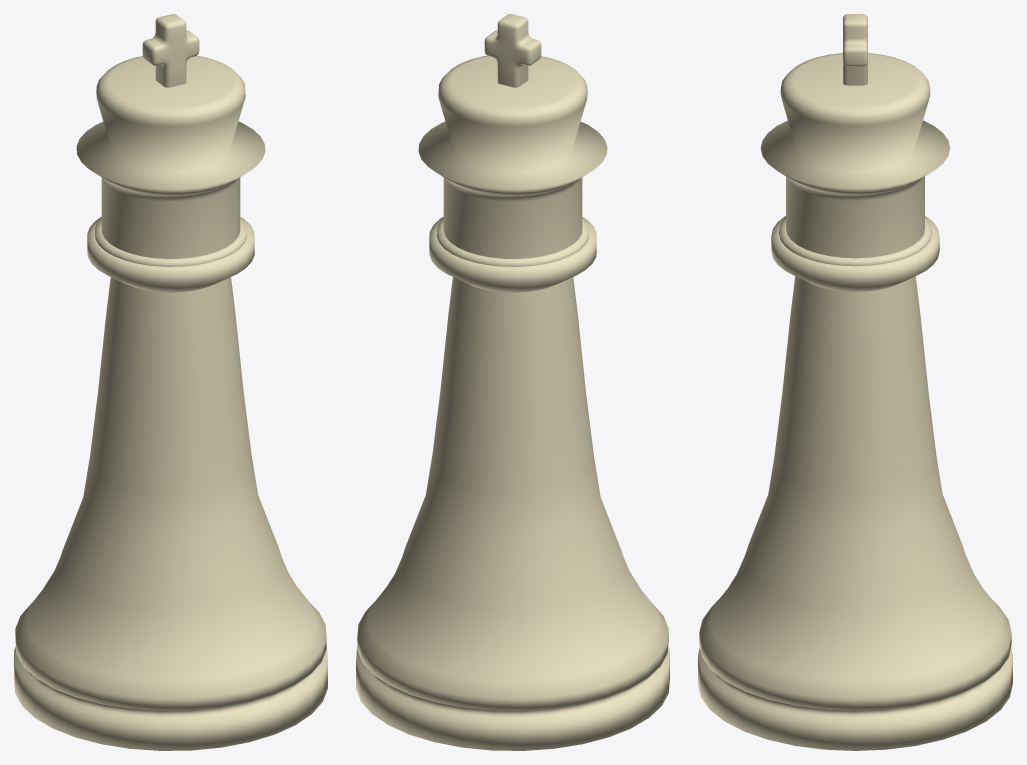
File: king.glb
3 views of the same model, side by side, from view 1: azimuth 30°, elevation 25°; view 2: azimuth 150°, elevation 25°; view 3: azimuth 270°, elevation 25° (orthographic).
Size of the model in its own units: 1.36 by 3.18 by 1.36.
